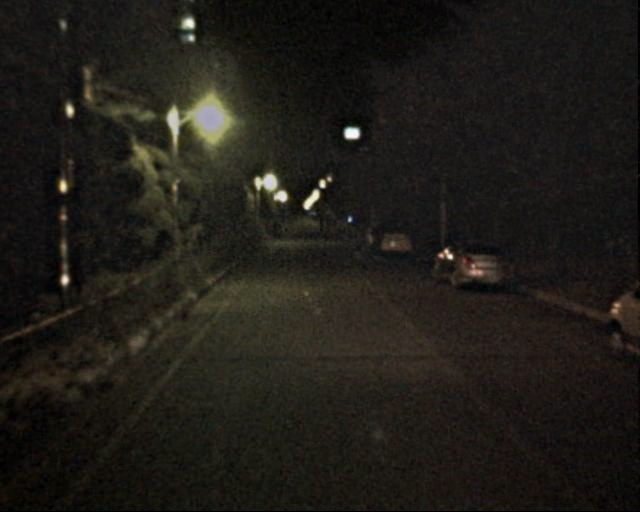person: (369, 222, 385, 260), (350, 224, 364, 259), (318, 222, 334, 237), (282, 218, 291, 241)
